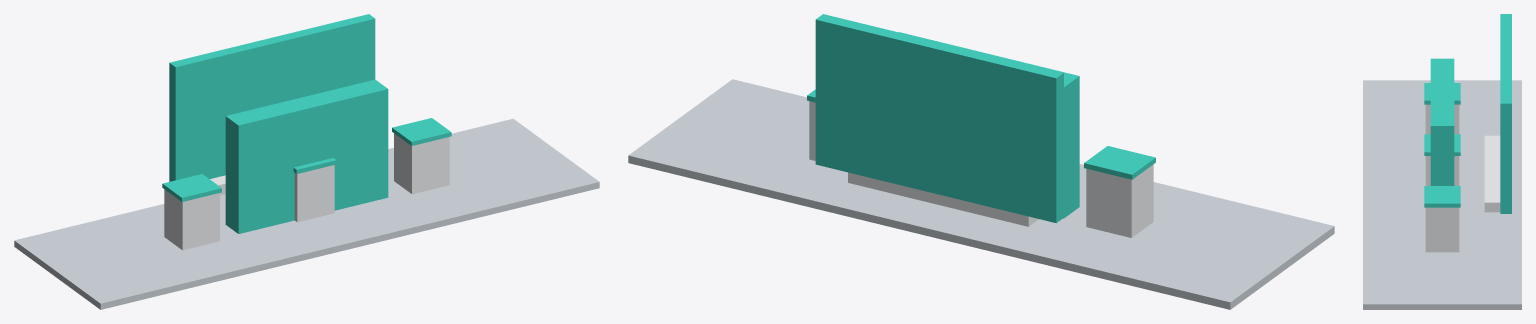
3 renders of one model, left to right at view 1: azimuth 30°, elevation 25°; view 2: azimuth 150°, elevation 25°; view 3: azimuth 270°, elevation 25°, orthographic. The views are drawn at different scales.
Visible parts, largest first — view 1: Exhibition Booth Concept; view 2: Exhibition Booth Concept; view 3: Exhibition Booth Concept.
Boxes of the visible parts, x1=… form: Exhibition Booth Concept: x1=14, y1=14, x2=599, y2=309; Exhibition Booth Concept: x1=628, y1=14, x2=1334, y2=309; Exhibition Booth Concept: x1=1363, y1=14, x2=1521, y2=309.
Size of the model in its own units: 10 by 2.9 by 3.
